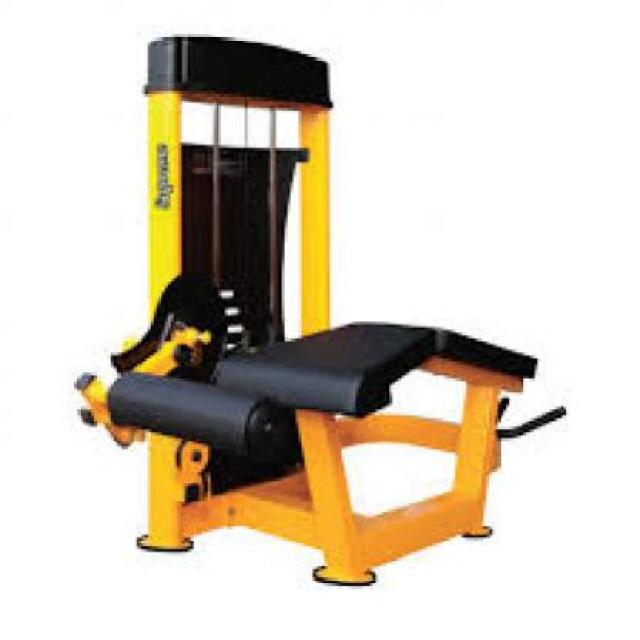reg curl machine: (74, 26, 569, 592)
